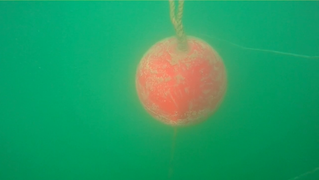buoy: (135, 34, 227, 128)
